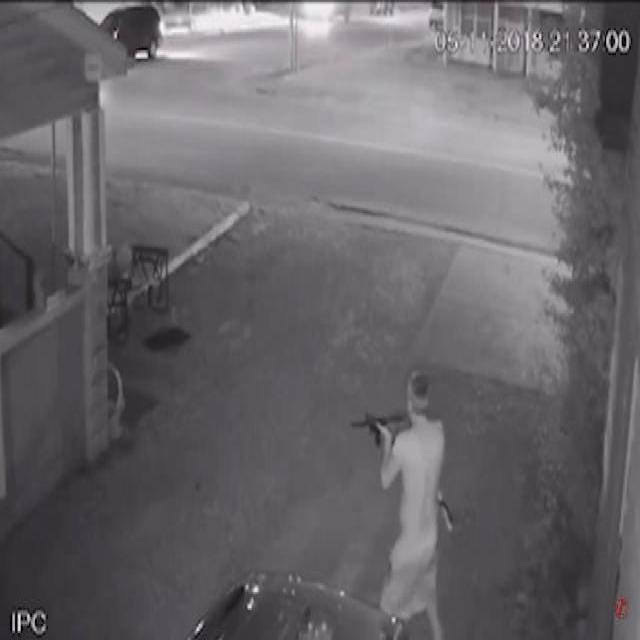pistol: (346, 411, 414, 448)
